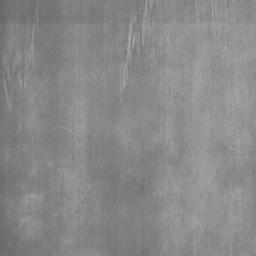Silk spot: (119, 0, 165, 76), (0, 42, 25, 119), (20, 6, 40, 24), (199, 5, 215, 22), (184, 0, 195, 13), (208, 29, 218, 42), (246, 6, 253, 21), (13, 90, 18, 107)
